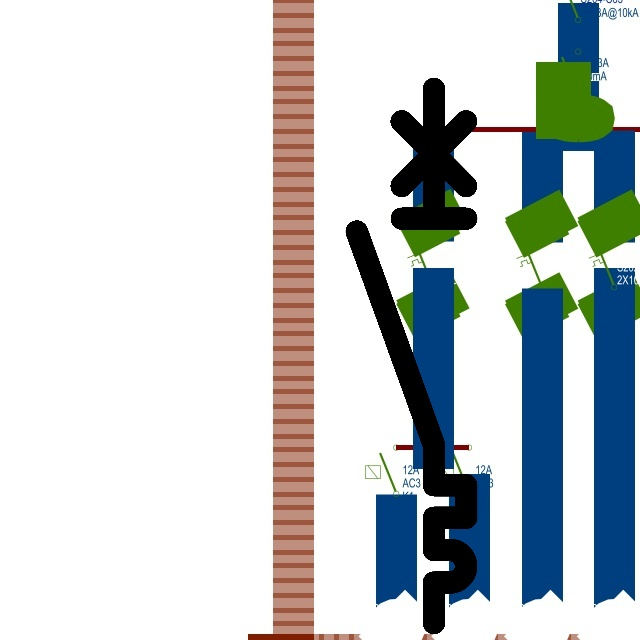interruptor_termomagnetico: (343, 75, 480, 637)
